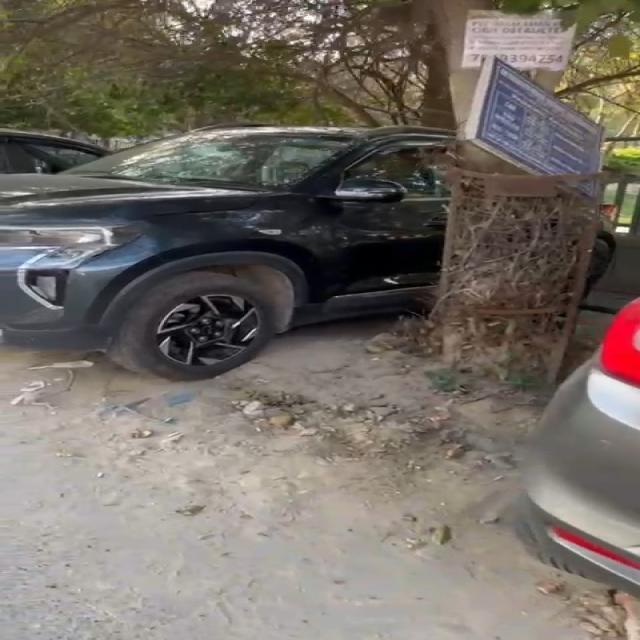car_front: (0, 113, 632, 396)
